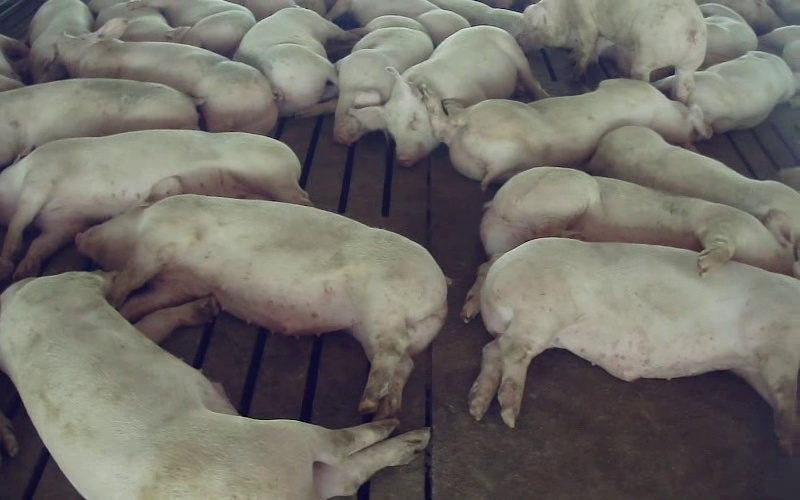pig: (77, 176, 446, 417), (469, 238, 799, 451), (462, 168, 794, 321), (0, 130, 308, 276), (424, 80, 710, 188), (351, 26, 546, 165), (57, 18, 277, 134), (587, 126, 799, 241), (518, 0, 706, 101), (0, 79, 198, 167), (297, 16, 433, 144), (234, 7, 348, 115), (688, 51, 794, 131), (700, 3, 757, 68)
